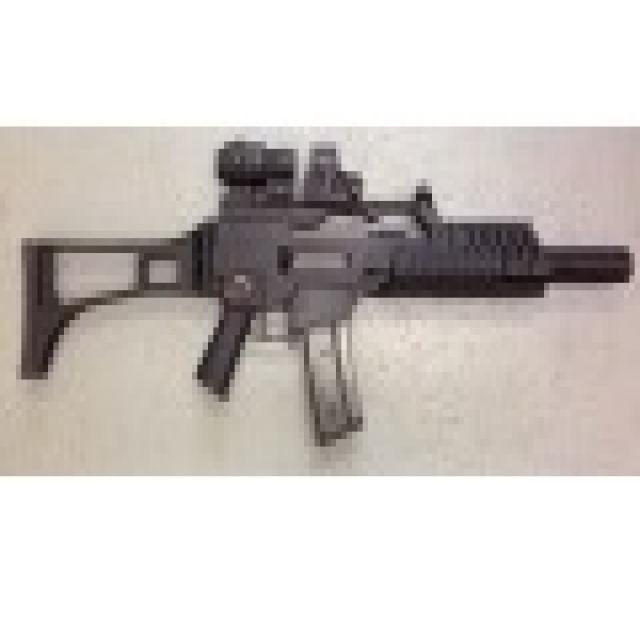Gun: (13, 130, 640, 434)
